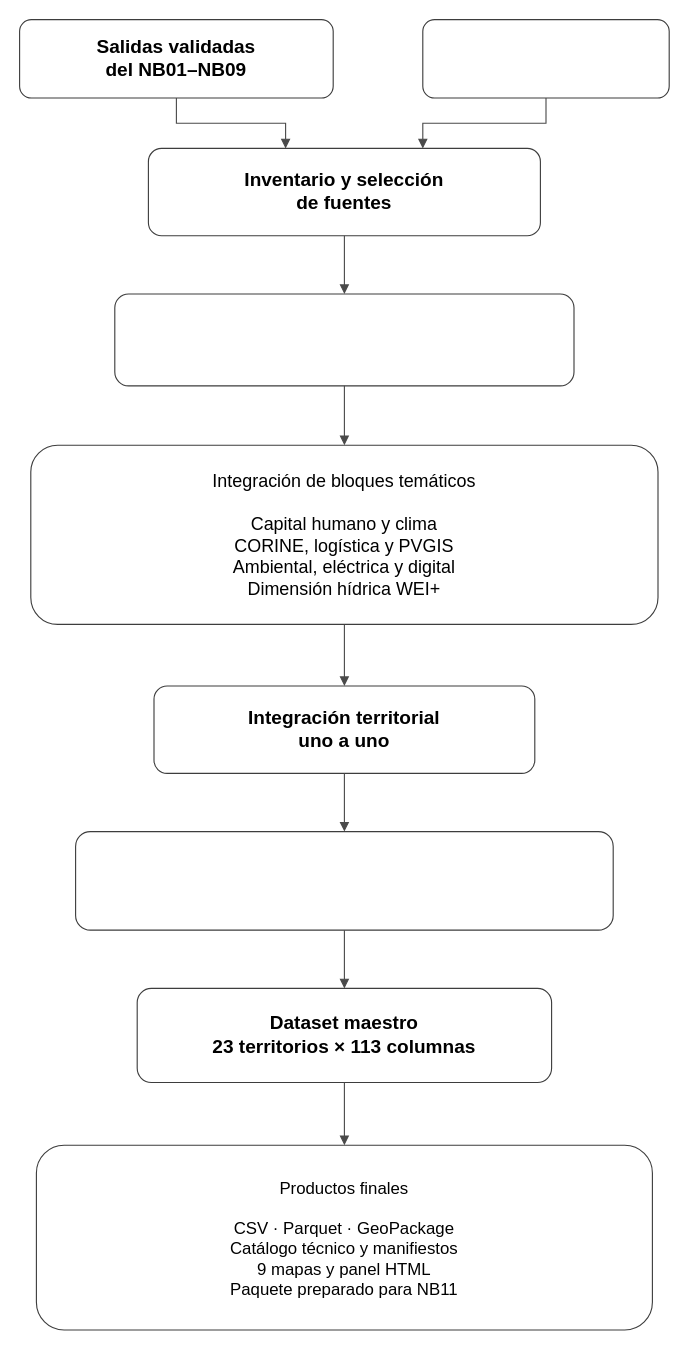
This 689x1350 diagram has some shape labels left out. Each missing label, with the box of its shape:
Base territorial del NB09 + normalización de codigo_geo: (114, 293, 574, 386)
Controles de cobertura, duplicados, nulos, geometrías y CRS: (74, 830, 613, 930)
EEA · WEI+ 2019–2023: (422, 18, 669, 98)
